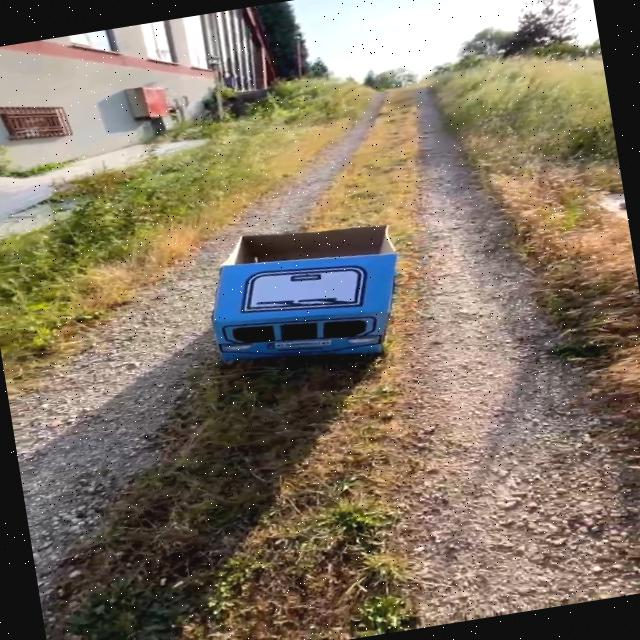blue_car: (142, 187, 432, 430)
